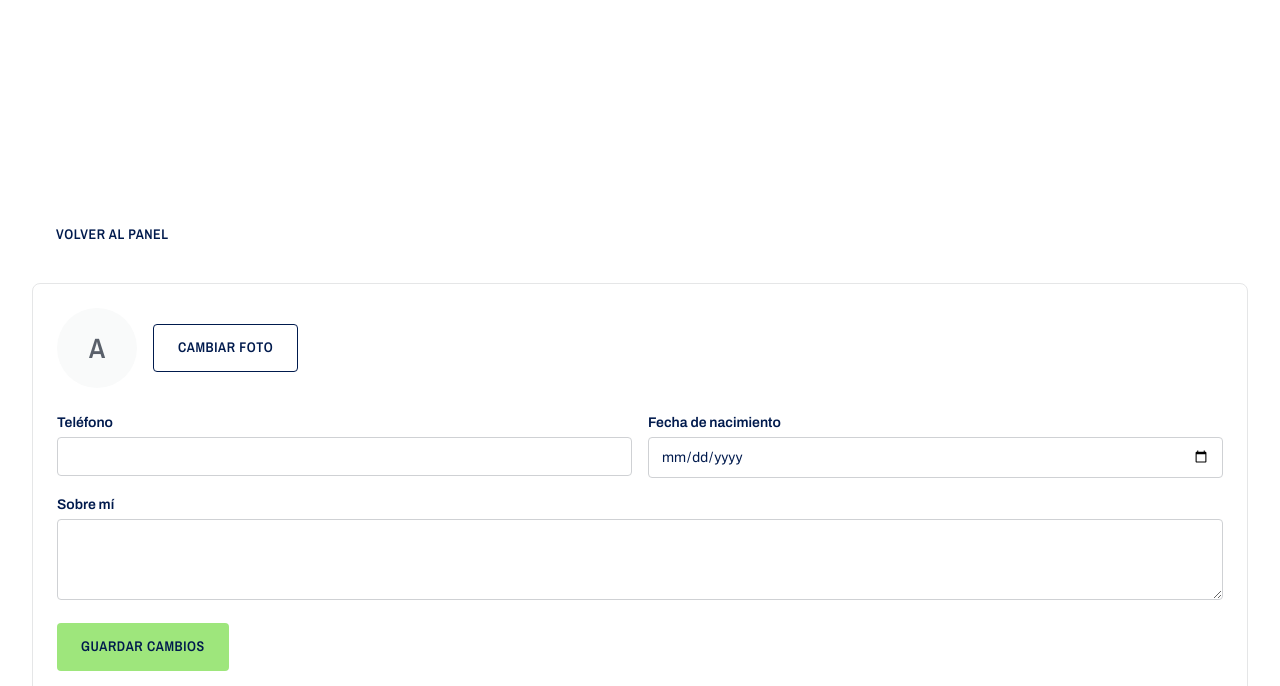
Test: PlayerProfilePage › pre-fills and submits the personal info form
This screenshot has width=1280, height=686.
Type "3001234567" into the field labelled "Teléfono" at (344, 456), box [57, 437, 632, 476]
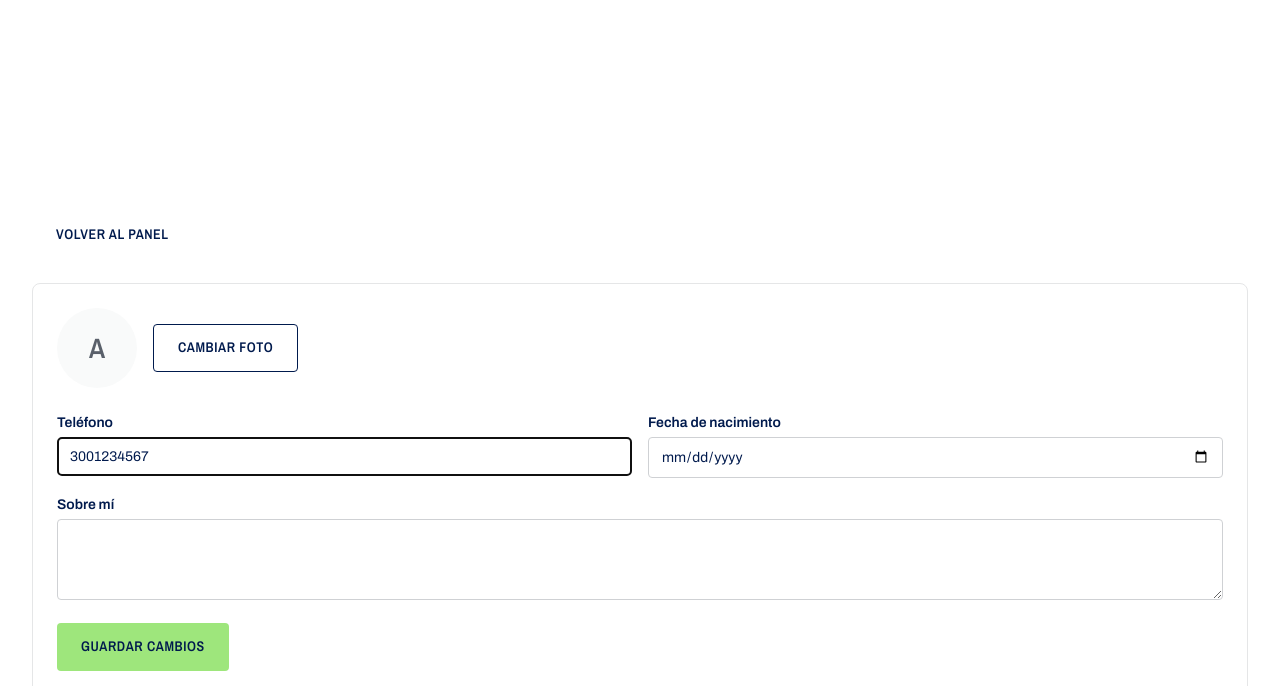
Click the button "Guardar cambios" at (143, 647), box [57, 623, 229, 671]
(page scrolled)
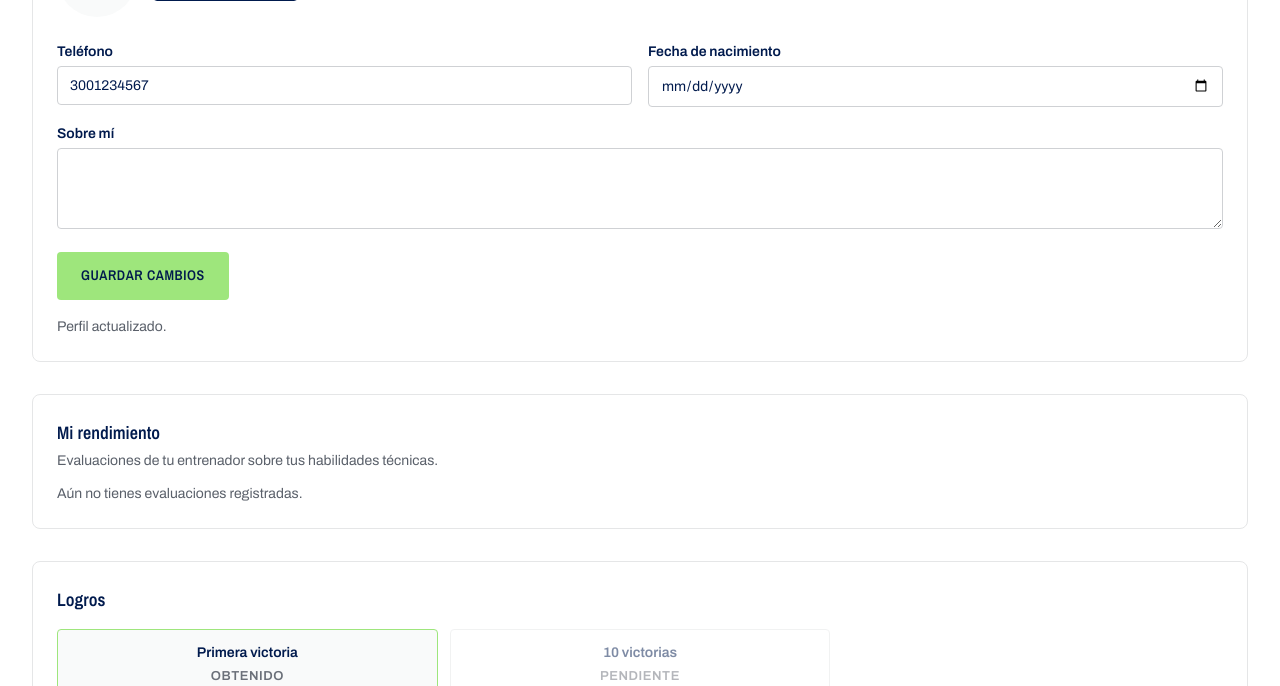
Result: the text "Perfil actualizado." is shown at [57, 319, 167, 334]
